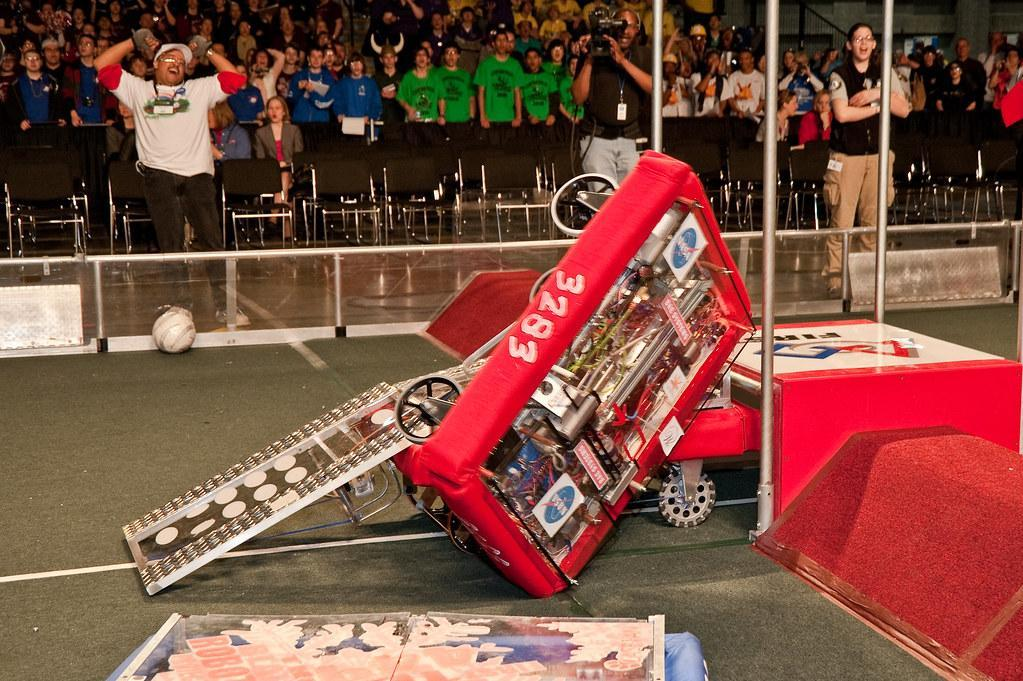robot: (115, 306, 762, 609), (387, 142, 756, 611)
